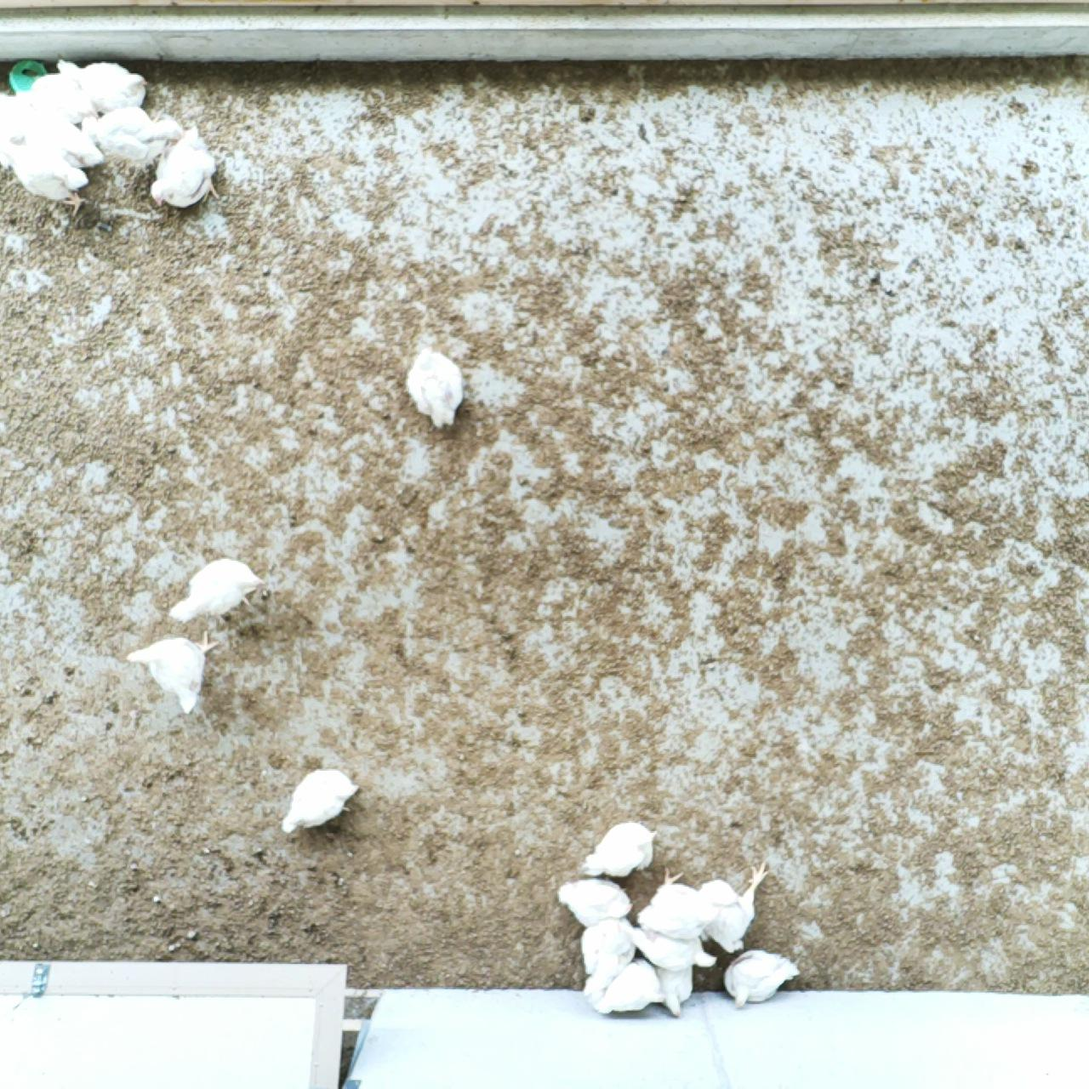chicken: (0, 112, 94, 217), (124, 630, 223, 717), (697, 859, 775, 955), (168, 555, 269, 629), (633, 865, 724, 942), (149, 122, 222, 215), (81, 103, 178, 170), (277, 765, 362, 838), (404, 341, 467, 433), (722, 944, 803, 1015), (54, 56, 152, 112), (579, 915, 639, 1005), (579, 817, 660, 882), (591, 958, 669, 1018), (14, 74, 100, 127), (552, 873, 634, 928), (630, 925, 721, 973), (645, 960, 698, 1021)
